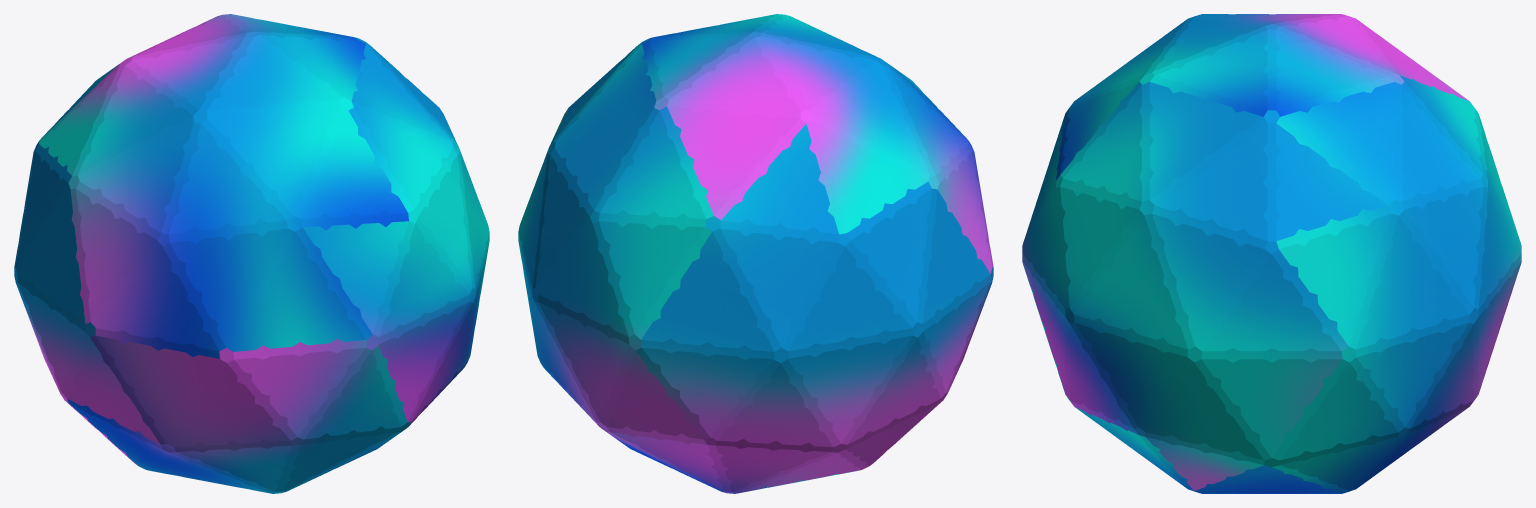
The model's file is orb2.obj.
3 renders of one model, left to right at view 1: azimuth 30°, elevation 25°; view 2: azimuth 150°, elevation 25°; view 3: azimuth 270°, elevation 25°, orthographic. The views are drawn at different scales.
Parts seen in each view (by area): view 1: Icosphere; view 2: Icosphere; view 3: Icosphere.
Part boxes in pixels (box(x1,y1,x2,y2)): Icosphere: box(14, 14, 489, 493); Icosphere: box(518, 14, 993, 493); Icosphere: box(1022, 14, 1521, 493).
Size of the model in its own units: 1.9 by 1.98 by 1.98.
Materials: 1 (1 with a texture image).
